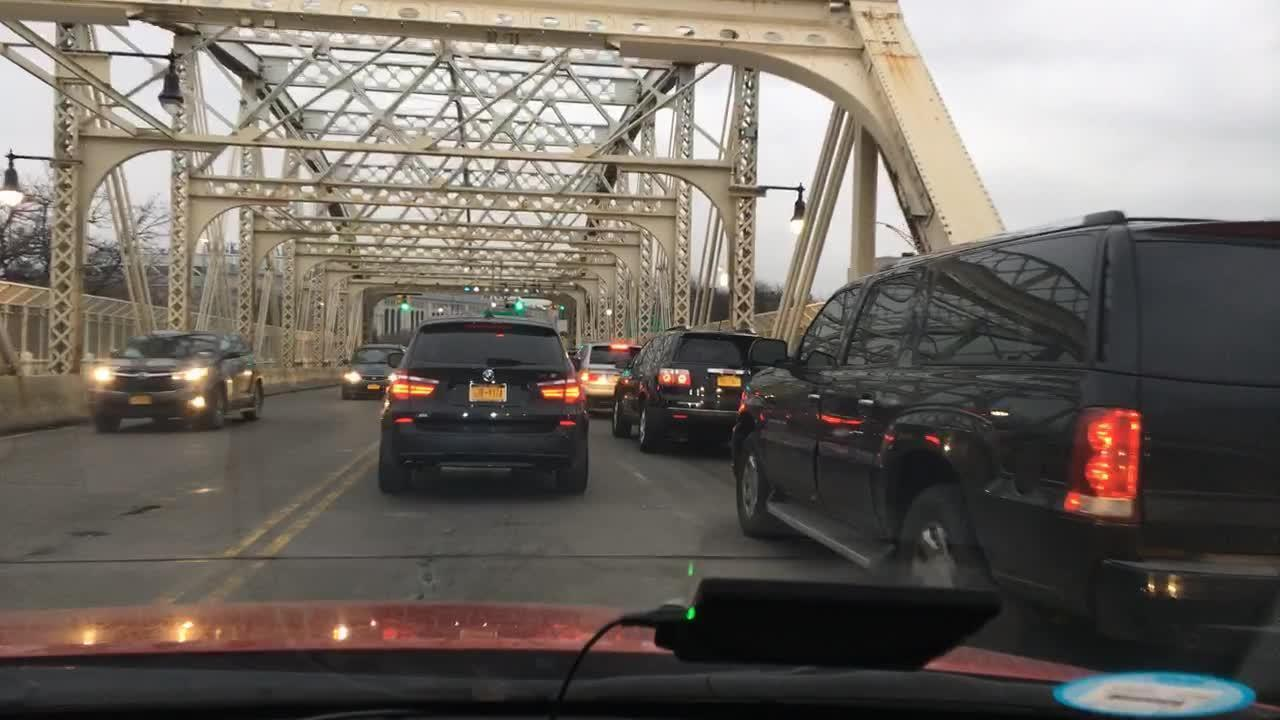bmw: (480, 366, 497, 386)
